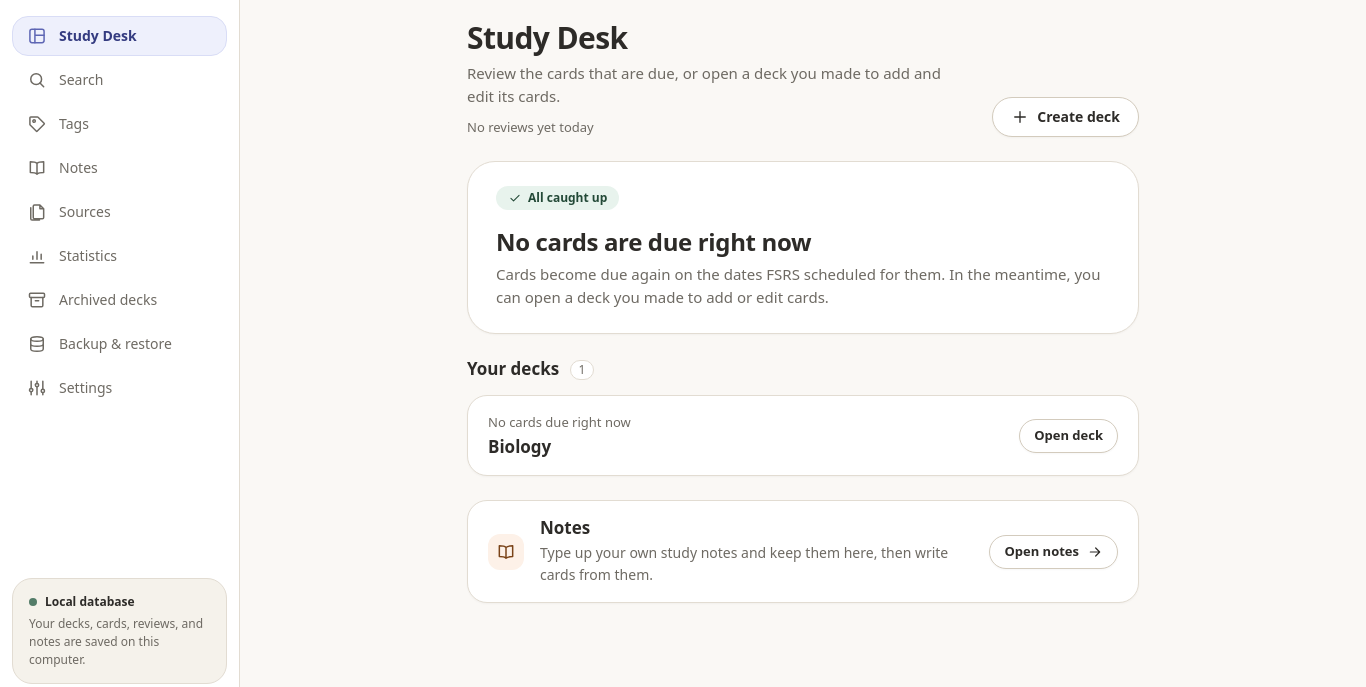
Test: reading a source's scanned pages › reads one page again from the page viewer
Click the button "Sources". click: (120, 212)
box: [12, 192, 227, 232]
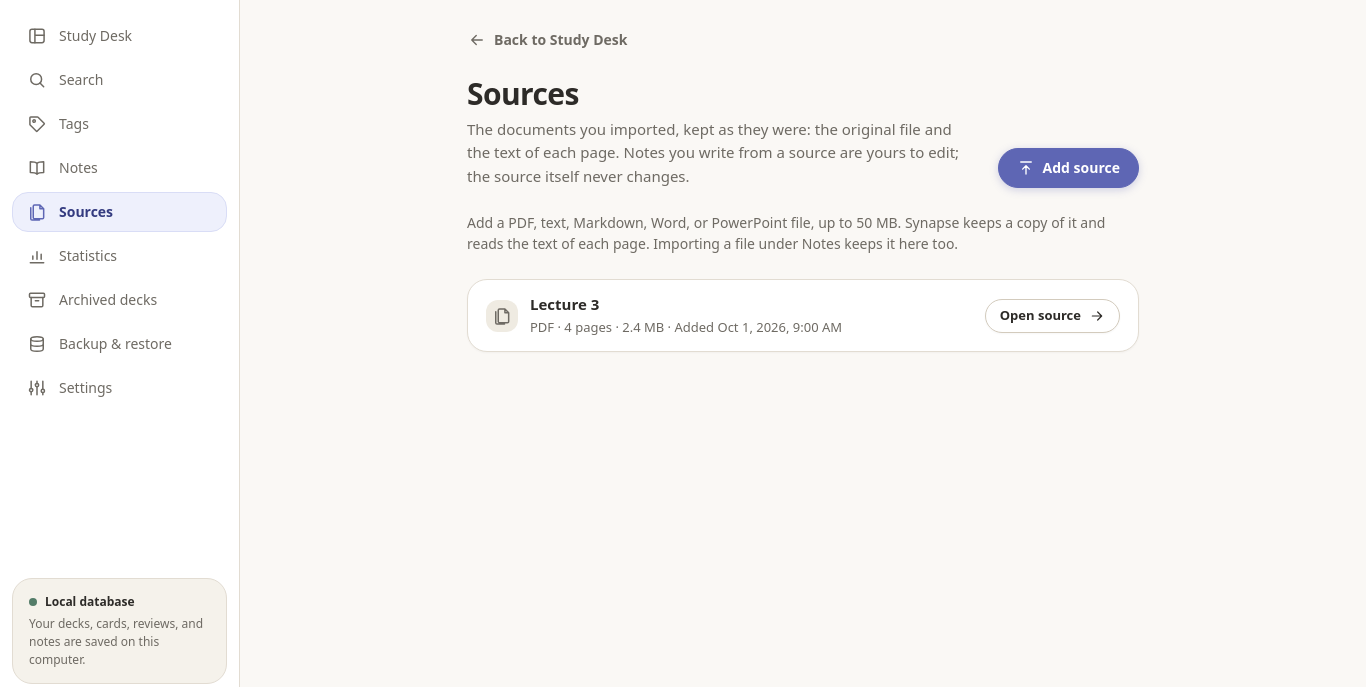
Click the button "Open source". click: (1052, 316)
box: [985, 299, 1120, 333]
(page scrolled)
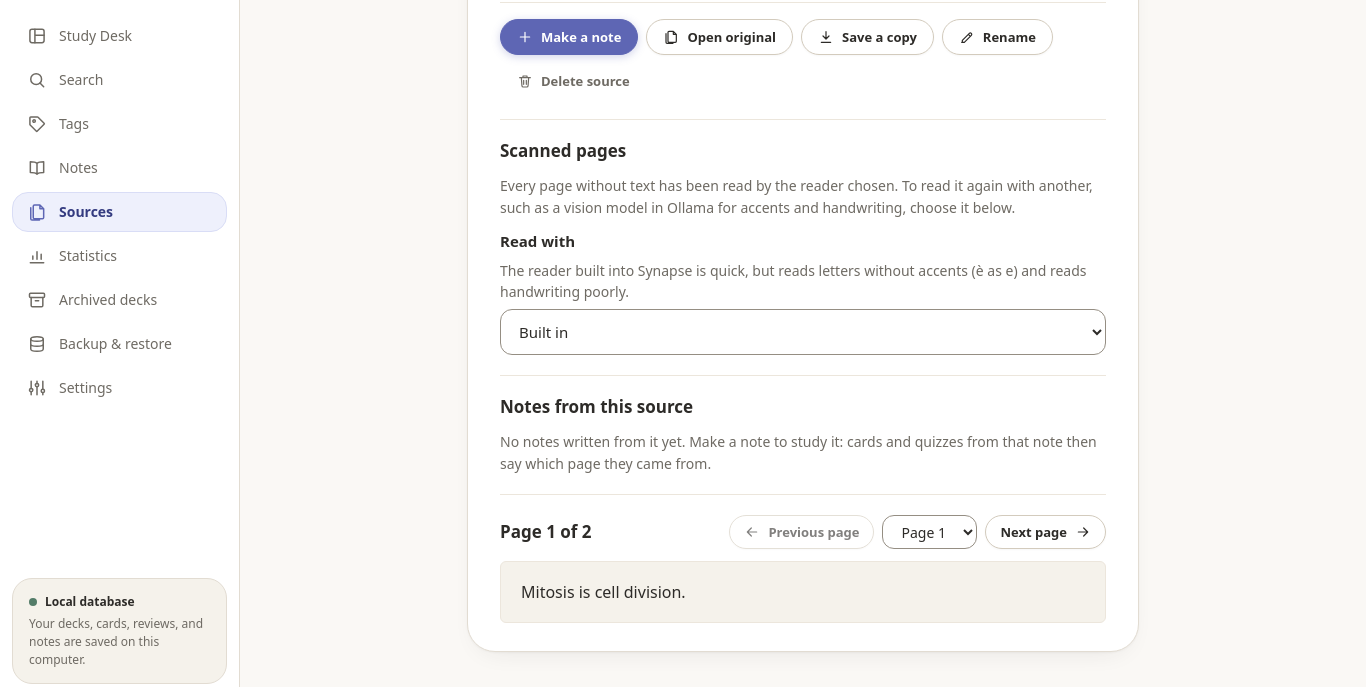
Expected: the text "Every page without text has been read" is shown, [500, 176, 1093, 217]
Click the button "Next page". click: (1046, 532)
box: [986, 515, 1106, 549]
(page scrolled)
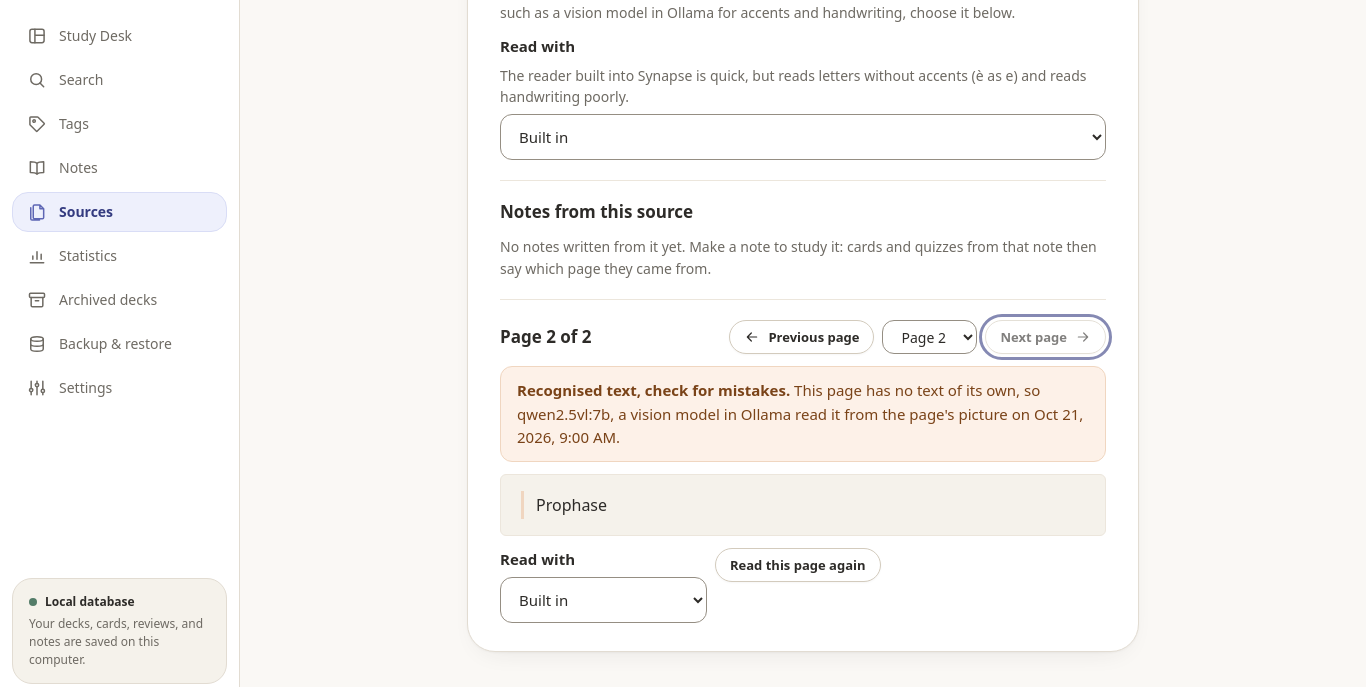
Expected: the text "qwen2.5vl:7b, a vision model in Ollama read it" is shown, [517, 380, 1083, 447]
Click the button "Read this page again". click: (798, 565)
box: [715, 548, 880, 582]
(page scrolled)
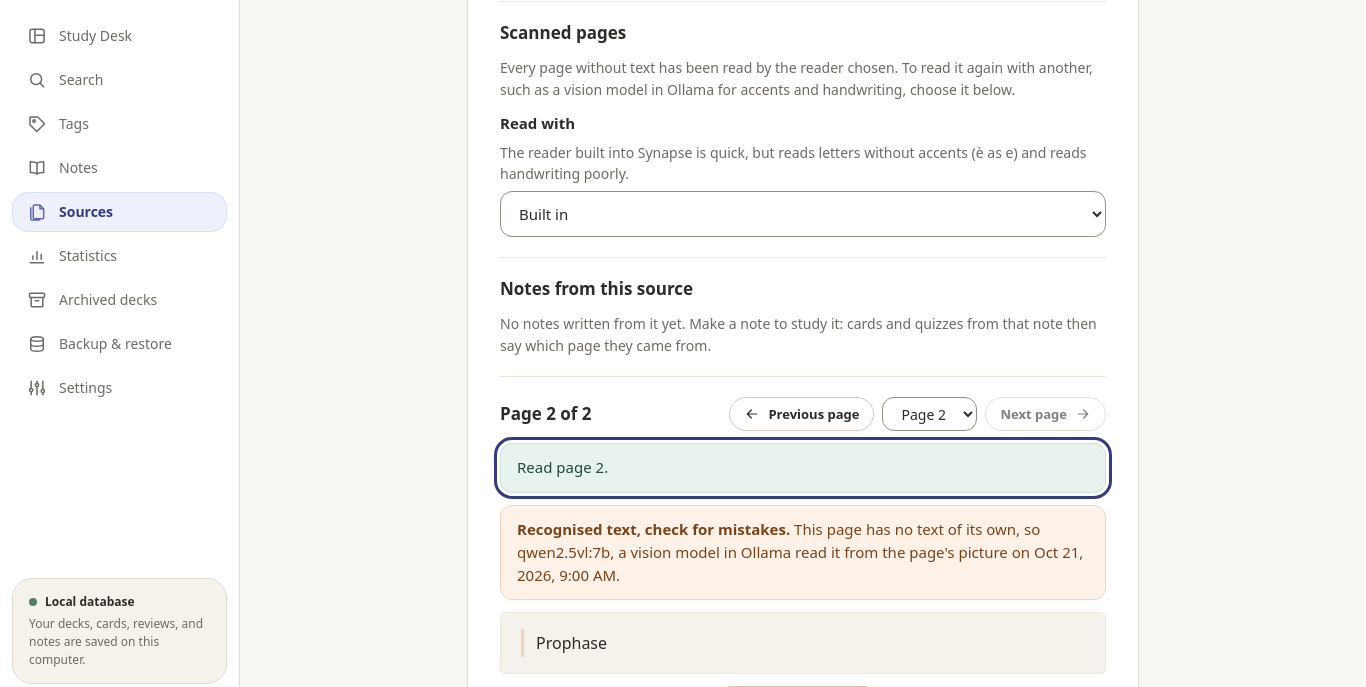
Expected: the text "Read page 2." is shown, [500, 443, 1106, 493]
